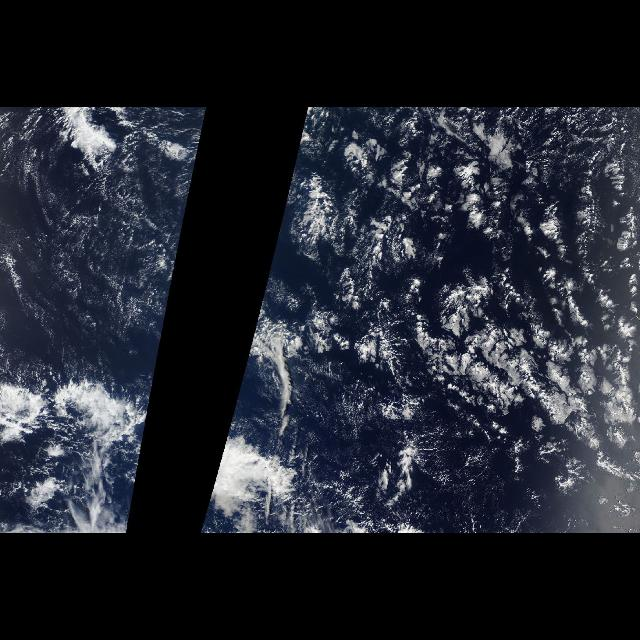Flower: (353, 124, 635, 482)
Sugar: (3, 152, 196, 392)
